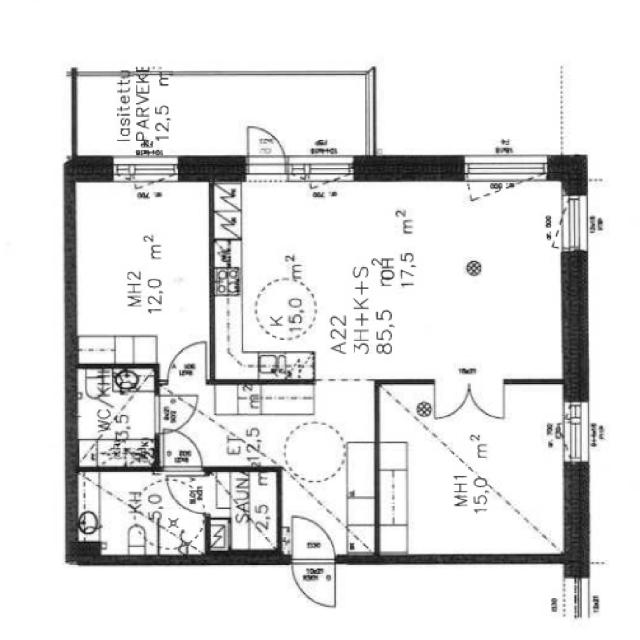door: (296, 187, 567, 378), (287, 509, 338, 607), (243, 124, 288, 177), (158, 426, 207, 473), (466, 380, 511, 425), (150, 394, 190, 437), (164, 469, 202, 512)
window: (459, 155, 553, 186), (107, 156, 184, 186), (560, 394, 590, 471), (558, 188, 590, 260), (286, 154, 360, 185), (569, 571, 593, 626)
zone: (71, 178, 211, 363), (72, 468, 216, 560), (73, 364, 158, 470), (208, 468, 280, 556), (288, 511, 338, 605)
